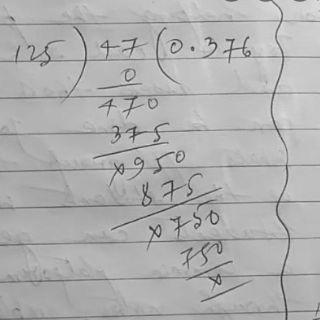.: (189, 43, 196, 54)
0: (166, 33, 185, 56), (119, 64, 137, 81), (145, 96, 160, 111)
1: (12, 42, 22, 63)
2: (26, 42, 42, 61)
3: (200, 32, 219, 58), (109, 121, 122, 146)
4: (97, 36, 118, 60), (95, 96, 117, 116)
5: (42, 37, 67, 68), (181, 166, 204, 198), (154, 149, 176, 176), (152, 120, 171, 142)
6: (241, 35, 256, 60)
7: (120, 34, 147, 57), (120, 93, 141, 120), (222, 34, 239, 64), (170, 213, 190, 238), (124, 121, 144, 143), (179, 244, 194, 271)
8: (138, 179, 154, 208)
9: (129, 154, 145, 179)
